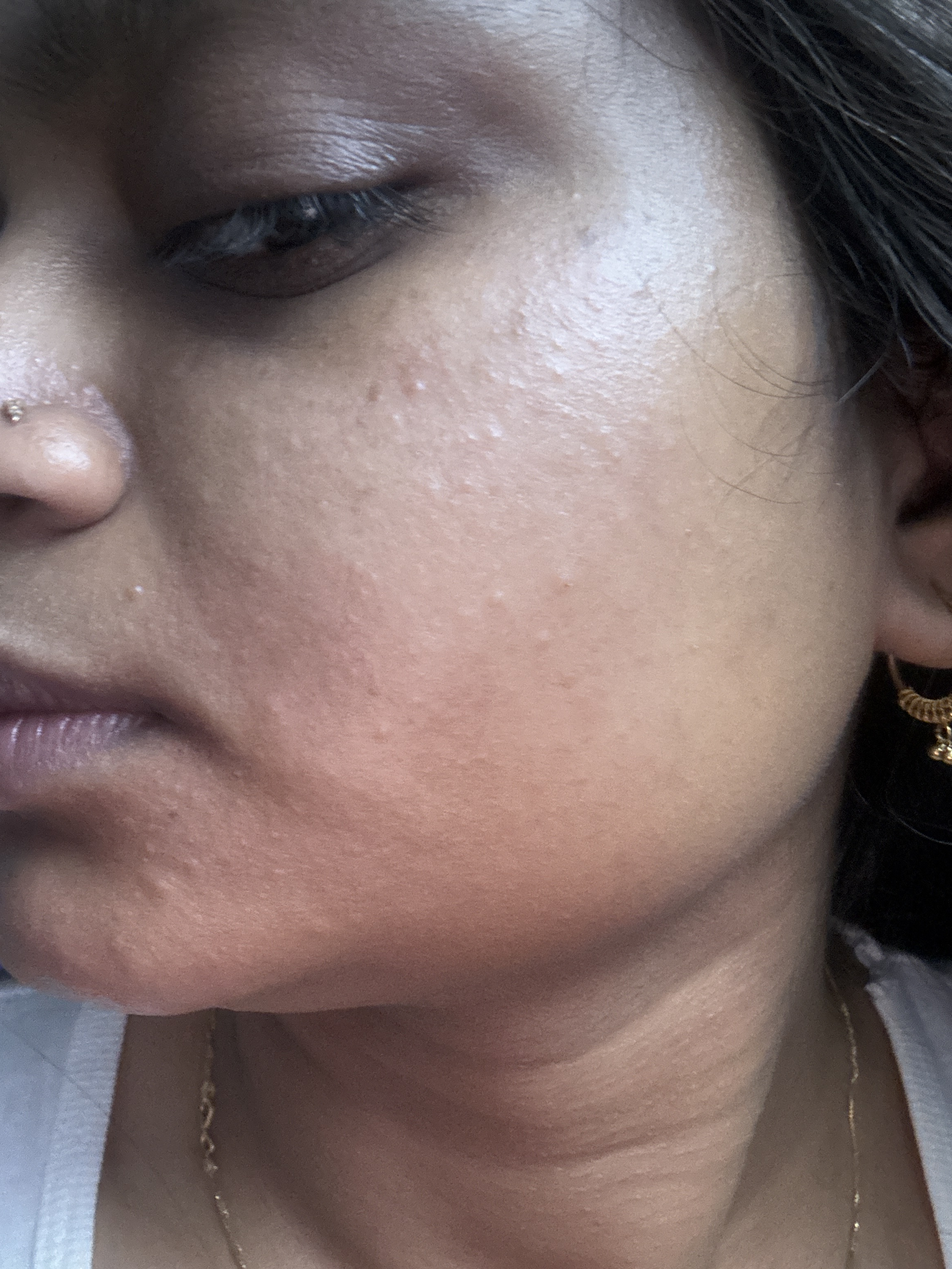closed_comedone: (31, 353, 92, 414), (122, 576, 163, 615), (476, 581, 519, 612), (368, 711, 401, 749), (696, 256, 726, 286)
papule: (390, 375, 452, 416)
